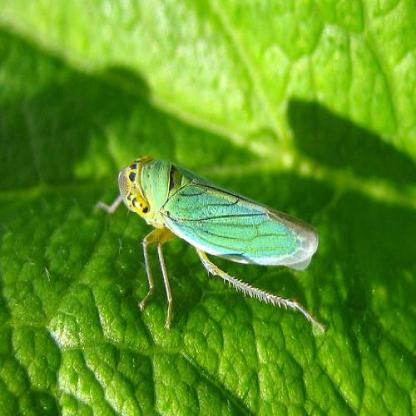Green-Leafhopper: (90, 153, 324, 339)
